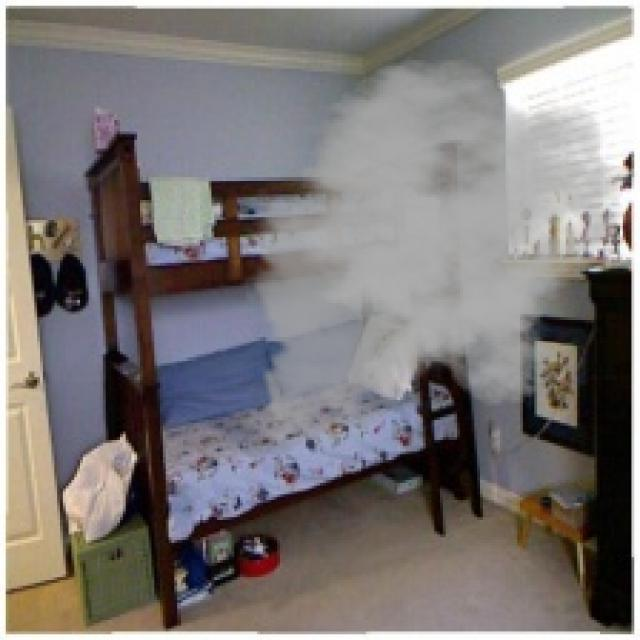Smoke: (240, 57, 637, 446)
